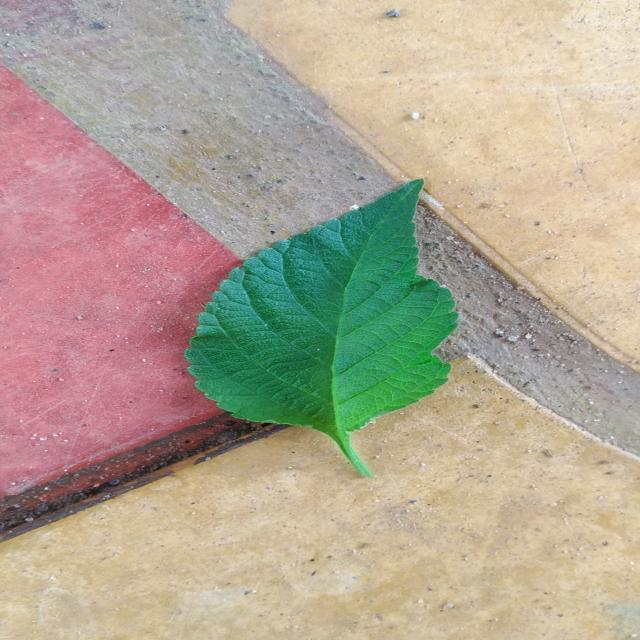Lantana: (184, 180, 458, 476)
